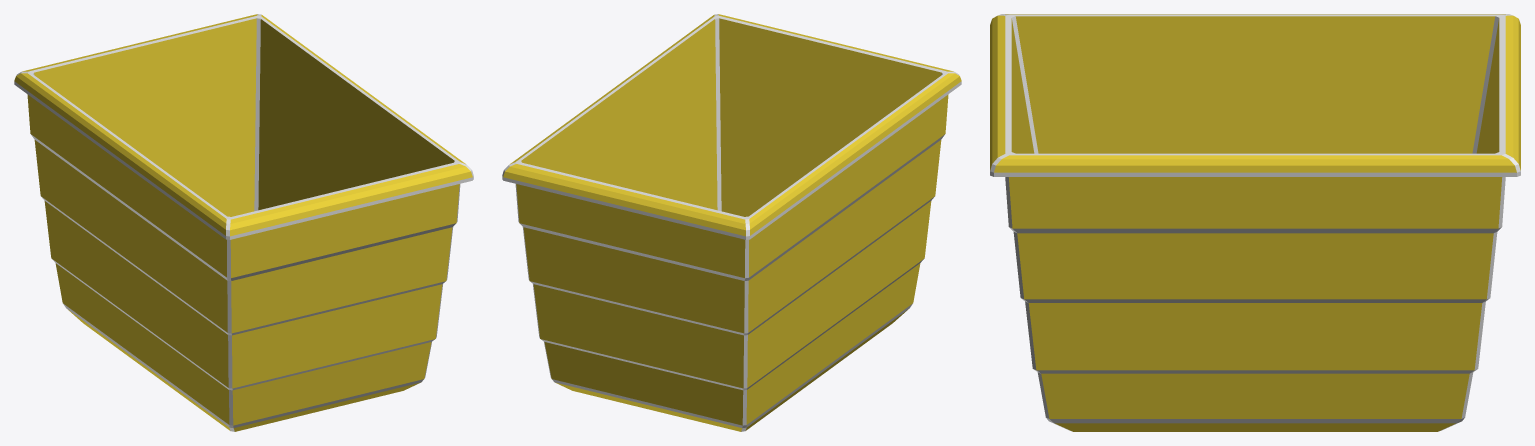
Rendered from bin low.fbx.
The picture shows the model from 3 angles, left to right: view 1: azimuth 30°, elevation 25°; view 2: azimuth 150°, elevation 25°; view 3: azimuth 270°, elevation 25°; orthographic projection. The views are drawn at different scales.
Visible parts, largest first — view 1: Waste Bin_plastic; view 2: Waste Bin_plastic; view 3: Waste Bin_plastic.
Part boxes in pixels (<box>): Waste Bin_plastic: <box>14,14,473,431</box>; Waste Bin_plastic: <box>502,14,961,431</box>; Waste Bin_plastic: <box>990,14,1520,431</box>.
Size of the model in its own units: 200 by 185 by 300.
